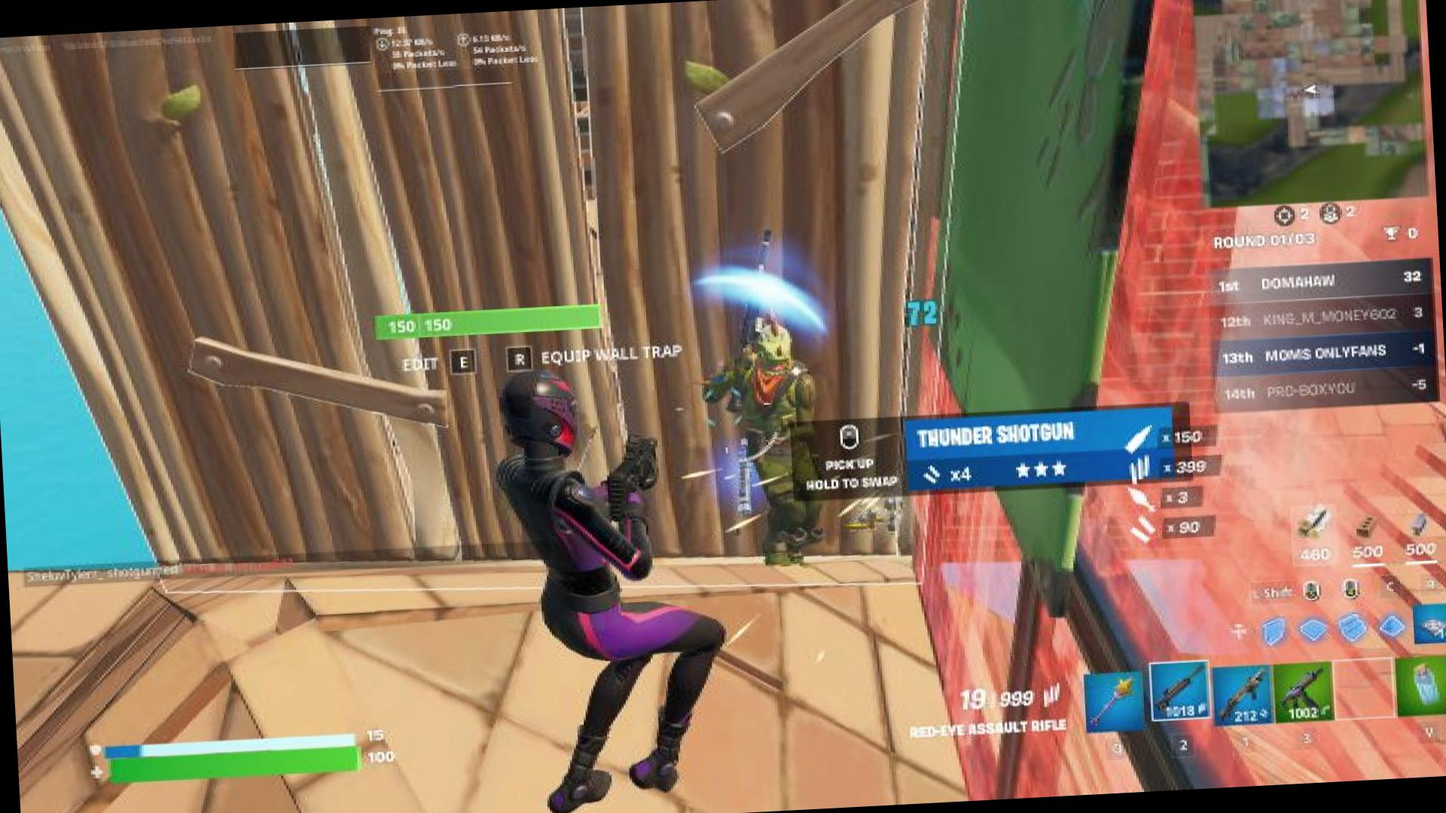player: (707, 309, 869, 613)
